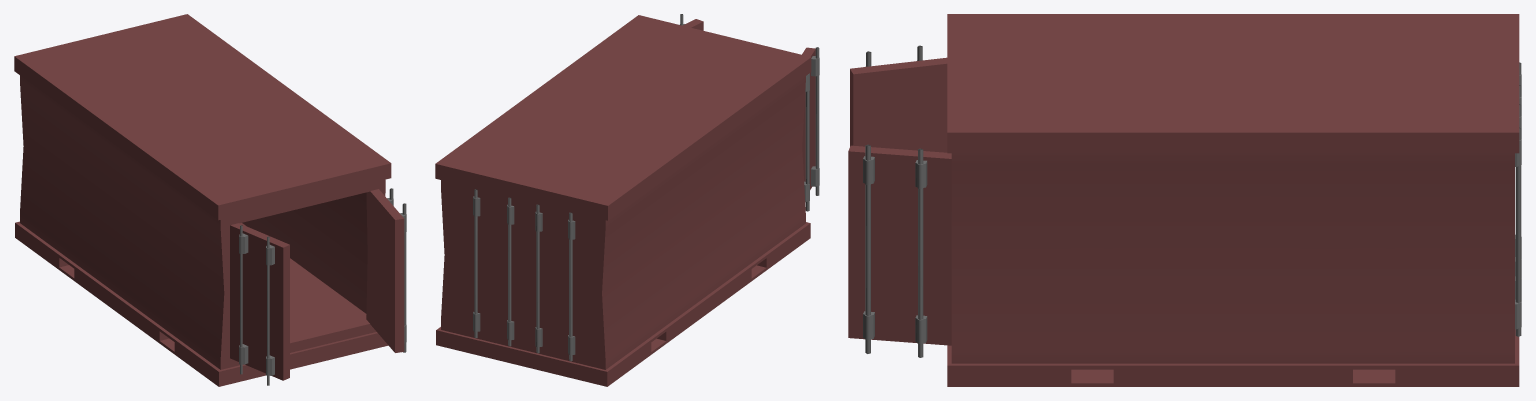
File: shipping container Half open.fbx
3 views of the same model, side by side, from view 1: azimuth 30°, elevation 25°; view 2: azimuth 150°, elevation 25°; view 3: azimuth 270°, elevation 25° (orthographic). The views are drawn at different scales.
Visible parts, largest first — view 1: polySurface72, polySurface71, polySurface70; view 2: polySurface72, pCylinder45, polySurface71; view 3: polySurface72, polySurface70, polySurface71, pCylinder45.
Boxes of the visible parts, <box> form: polySurface72: <box>14,14,391,386</box>; polySurface71: <box>230,223,289,385</box>; polySurface70: <box>366,188,406,352</box>; polySurface72: <box>435,15,811,386</box>; pCylinder45: <box>473,189,575,361</box>; polySurface71: <box>802,47,819,211</box>; polySurface72: <box>947,14,1519,386</box>; polySurface70: <box>848,144,951,357</box>; polySurface71: <box>850,45,947,152</box>; pCylinder45: <box>1515,62,1521,336</box>.
Bounding box in the file's own units: 9.99 × 10.01 × 23.97.
